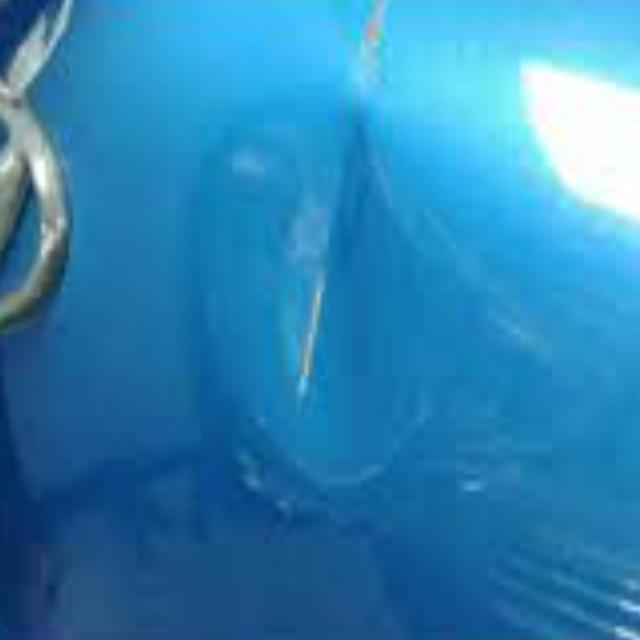dents: (177, 98, 437, 502)
